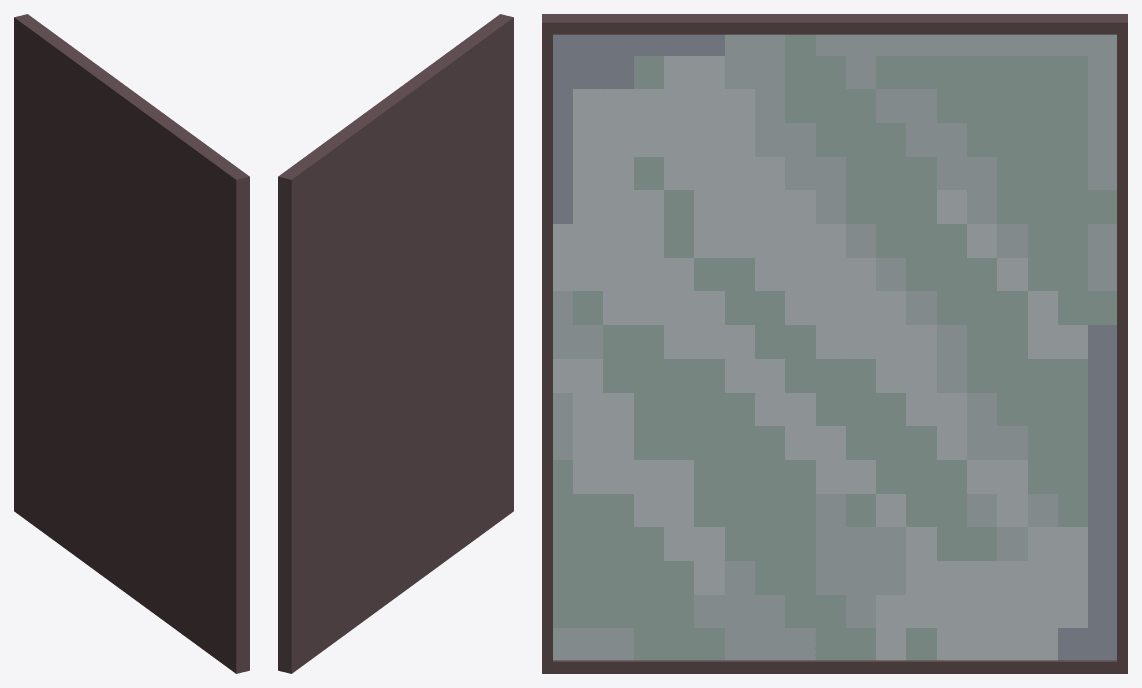
Rendered from mirror_reup2fbx.fbx.
3 views of the same model, side by side, from view 1: azimuth 30°, elevation 25°; view 2: azimuth 150°, elevation 25°; view 3: azimuth 270°, elevation 25° (orthographic). The views are drawn at different scales.
Parts seen in each view (by area): view 1: Cube; view 2: Cube; view 3: Cube.
Part boxes in pixels (box(x1,y1,x2,y2)): Cube: box(14, 14, 249, 673); Cube: box(278, 14, 513, 673); Cube: box(542, 14, 1127, 673).
Size of the model in its own units: 22.73 by 790 by 644.
Materials: 1 (1 with a texture image).
